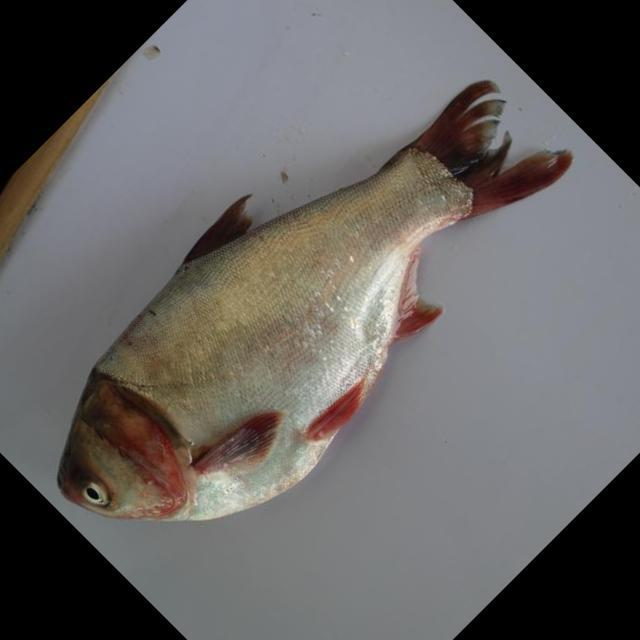SilverCarp: (41, 96, 572, 528)
